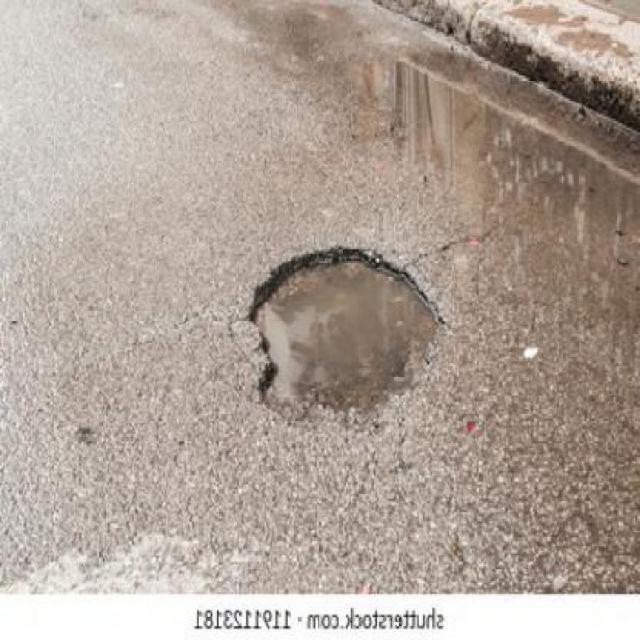pothole: (246, 242, 449, 428)
